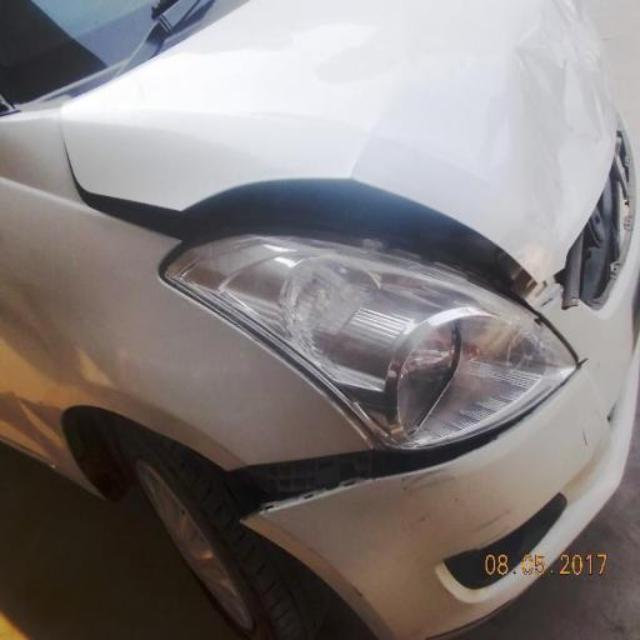dent: (521, 4, 616, 275)
dislocated part: (68, 149, 542, 300), (221, 364, 585, 530)
scratch: (396, 487, 475, 538), (398, 467, 463, 500), (465, 507, 515, 540), (469, 524, 515, 552)
